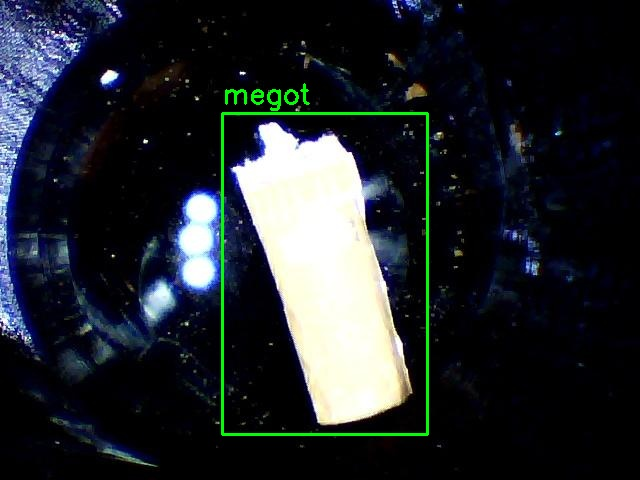megot: (222, 113, 427, 434)
